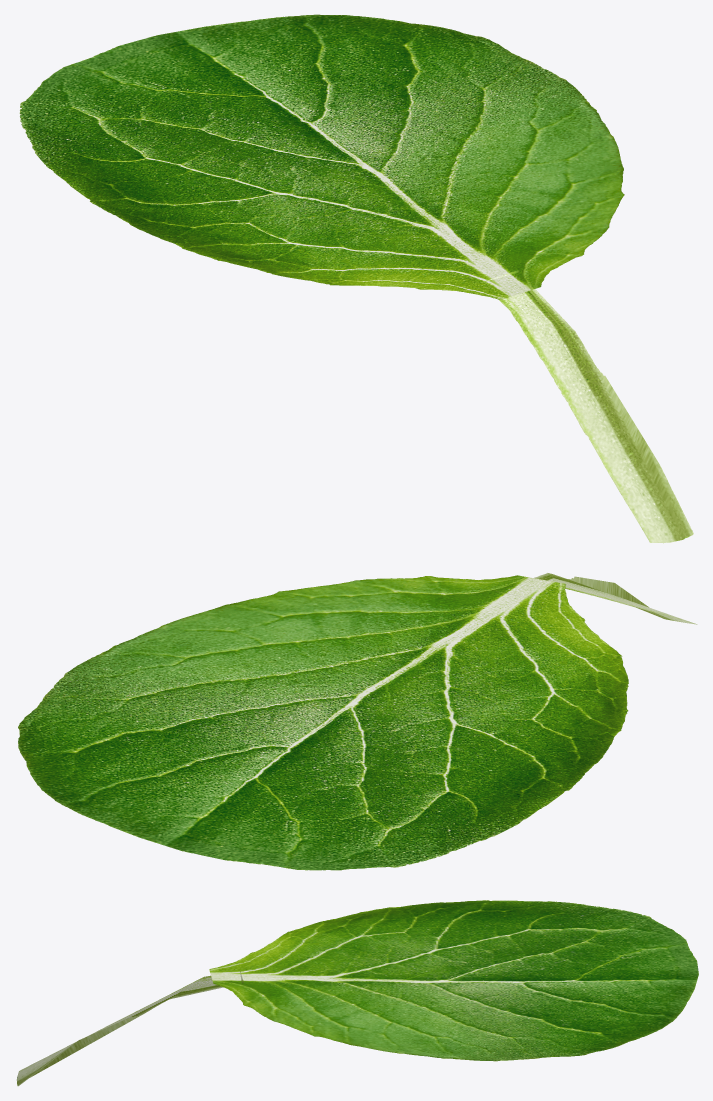
The model's file is SlothLEAF1.fbx.
3 renders of one model, top to bottom at view 1: azimuth 30°, elevation 25°; view 2: azimuth 150°, elevation 25°; view 3: azimuth 270°, elevation 25°, orthographic. The views are drawn at different scales.
Parts seen in each view (by area): view 1: leaf4, leaf4.001; view 2: leaf4, leaf4.001; view 3: leaf4, leaf4.001.
Boxes of the visible parts, x1,y1,x2,y2 form: leaf4: (19, 14, 624, 299); leaf4.001: (479, 270, 693, 543); leaf4: (18, 575, 628, 870); leaf4.001: (495, 573, 697, 624); leaf4: (209, 900, 698, 1061); leaf4.001: (16, 970, 243, 1086).
Size of the model in its own units: 0.501 by 0.1484 by 0.8915.
